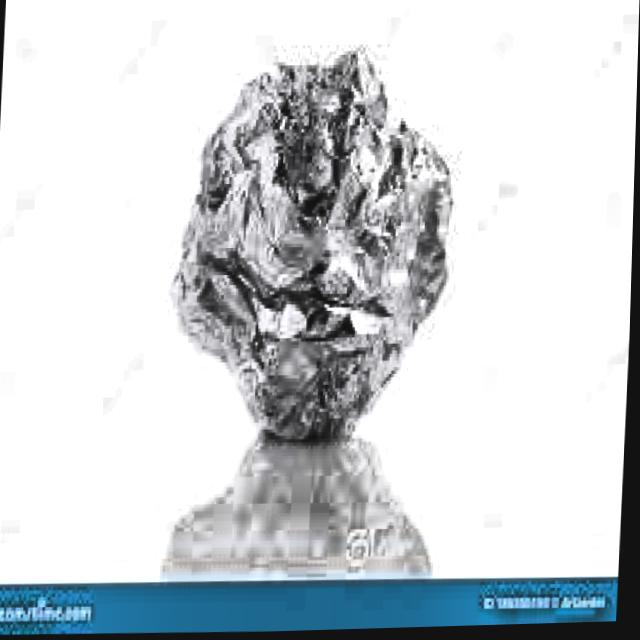Foil: (159, 30, 474, 482)
